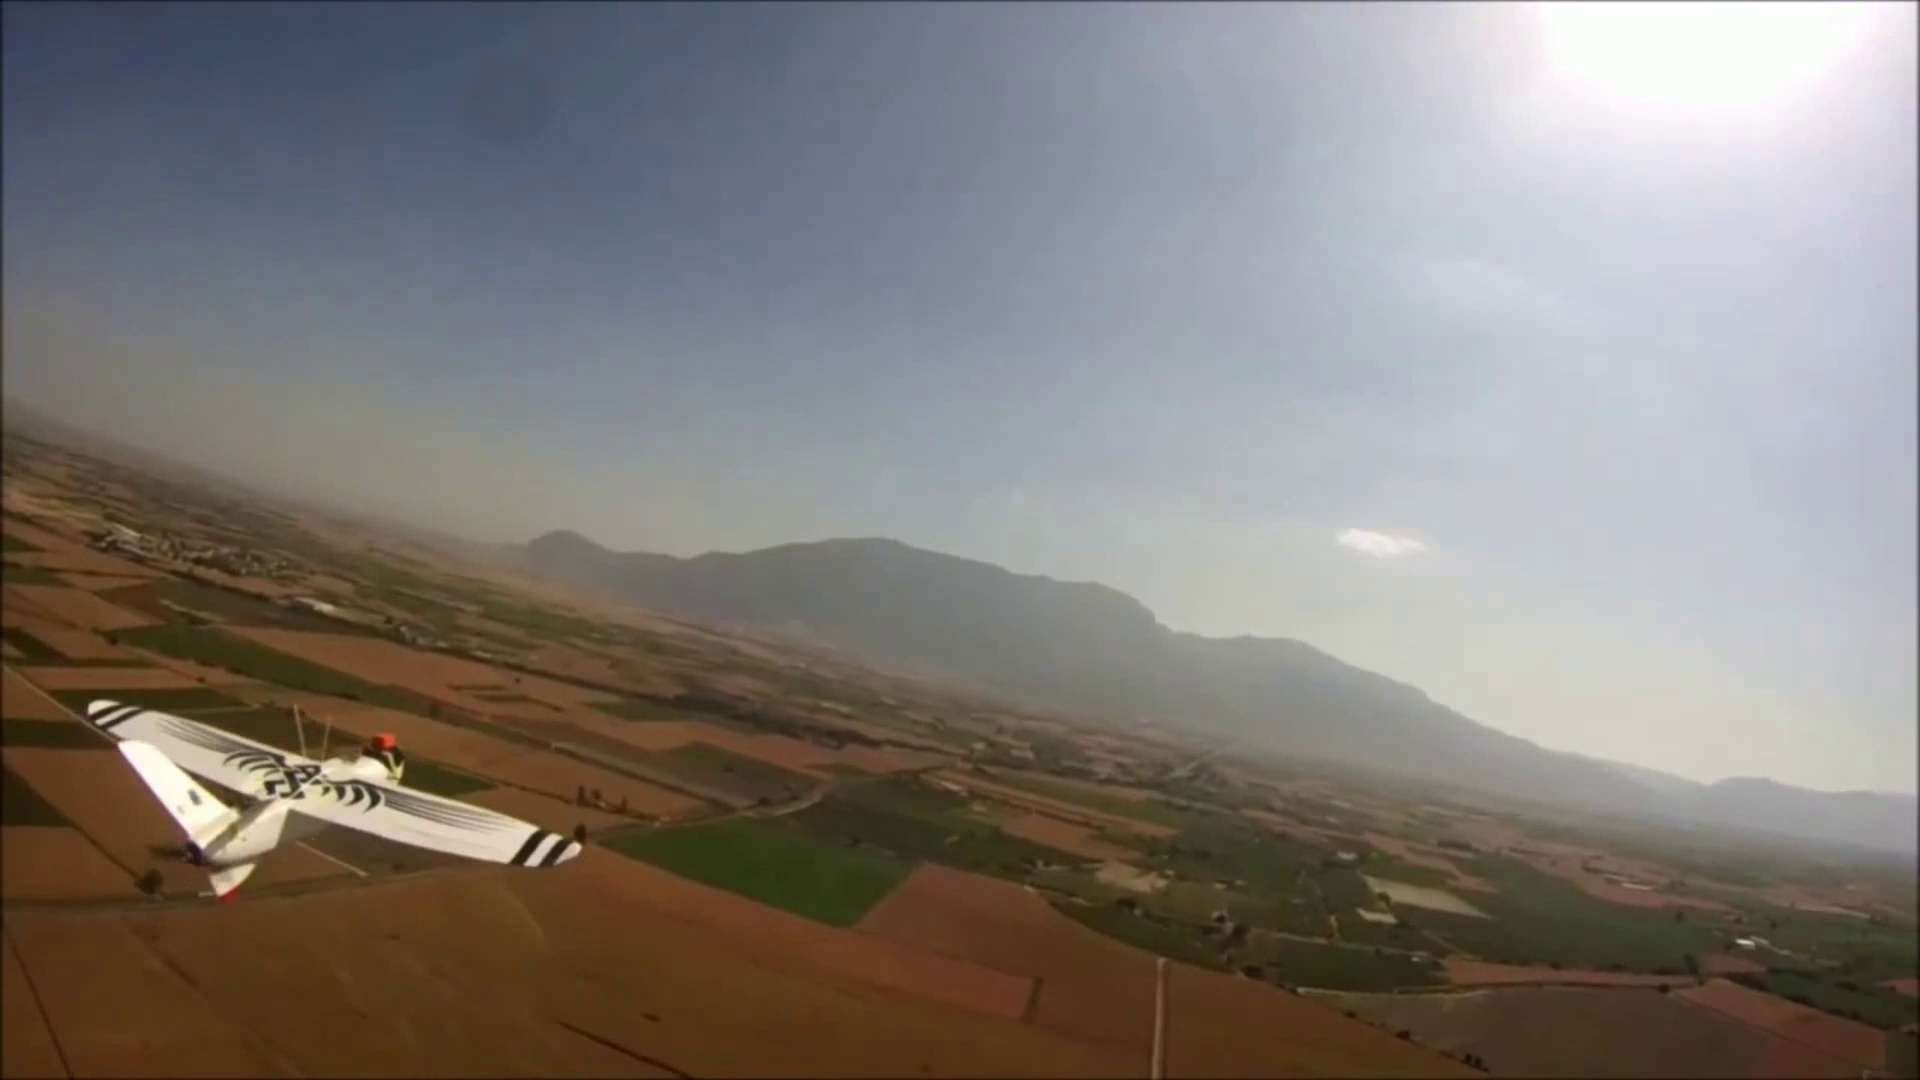airplane: (3, 665, 584, 902)
